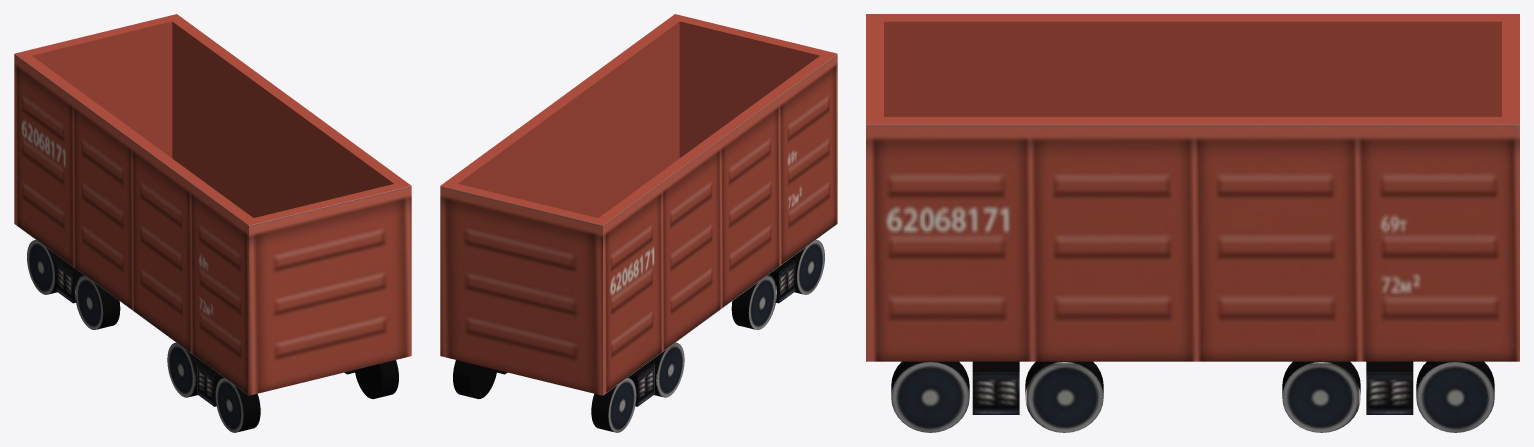
File: car.glb
3 views of the same model, side by side, from view 1: azimuth 30°, elevation 25°; view 2: azimuth 150°, elevation 25°; view 3: azimuth 270°, elevation 25° (orthographic). The views are drawn at different scales.
Parts seen in each view (by area): view 1: Car; view 2: Car; view 3: Car.
Boxes of the visible parts, x1,y1,x2,y2 form: Car: (14,14,411,432); Car: (440,14,837,432); Car: (866,14,1519,432).
Bounding box in the file's own units: 2 × 2.62 × 5.
3 materials, 1 textured.
